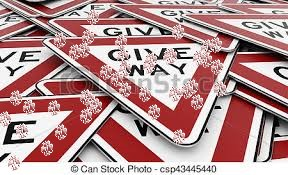giveway: (149, 38, 215, 130), (88, 41, 223, 85), (103, 39, 163, 115)
